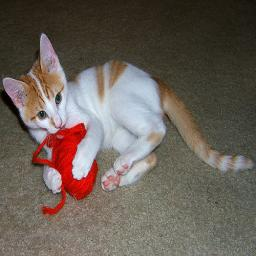catnose: (53, 118, 64, 132)
